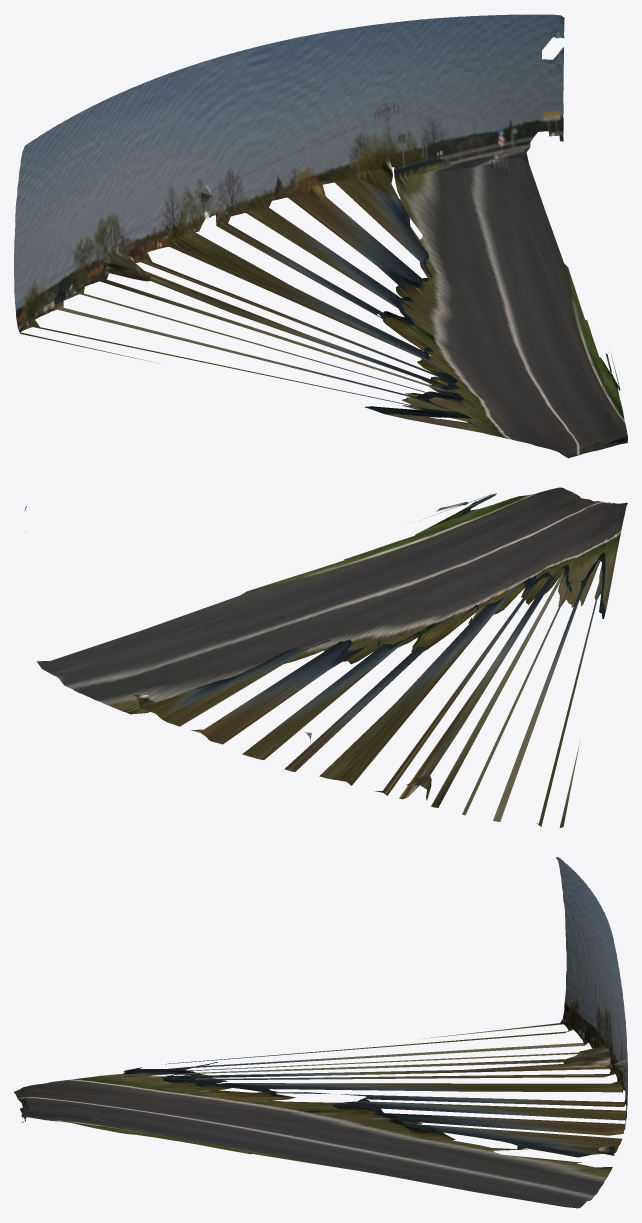
3 renders of one model, top to bottom at view 1: azimuth 30°, elevation 25°; view 2: azimuth 150°, elevation 25°; view 3: azimuth 270°, elevation 25°, orthographic. The views are drawn at different scales.
Visible parts, largest first — view 1: defaultobject; view 2: defaultobject; view 3: defaultobject.
Boxes of the visible parts, x1,y1,x2,y2 form: defaultobject: (14,14,627,458); defaultobject: (24,487,627,827); defaultobject: (14,857,627,1208).
Size of the model in its own units: 41.16 by 14.3 by 44.68.
Materials: 1 (1 with a texture image).
